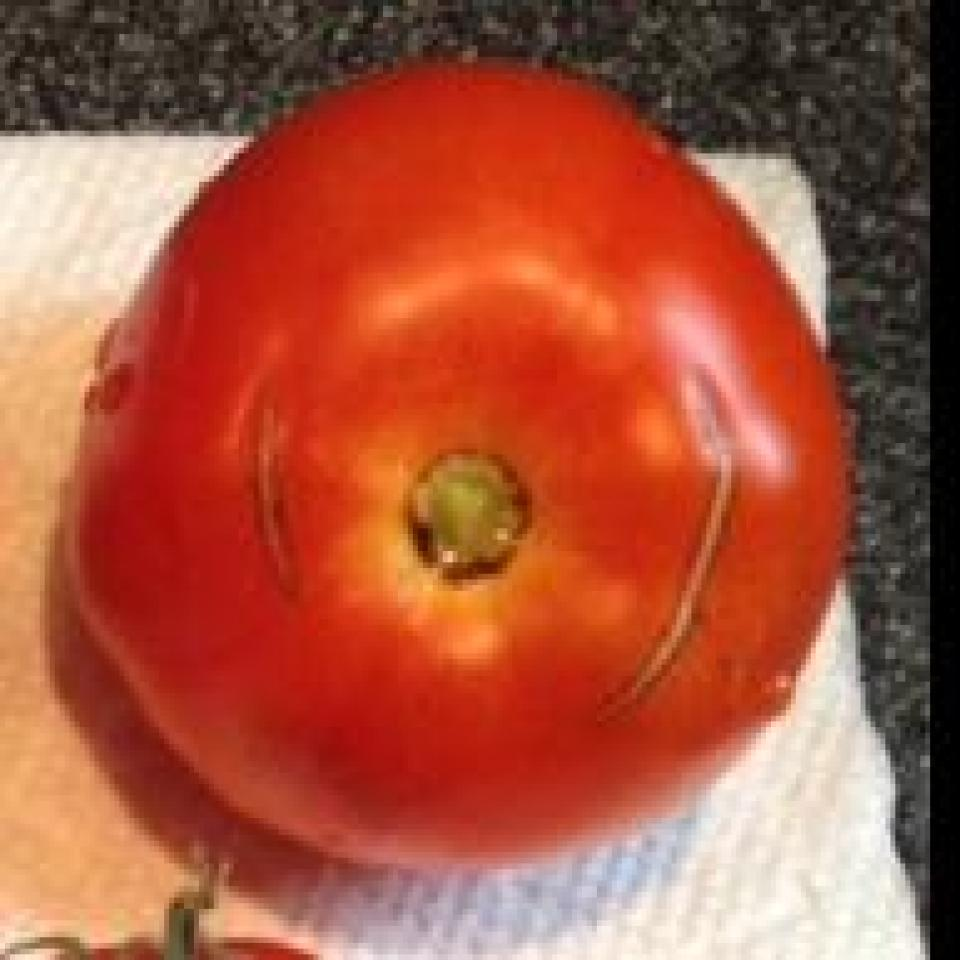Cracking: (585, 346, 754, 732), (208, 331, 316, 646)
